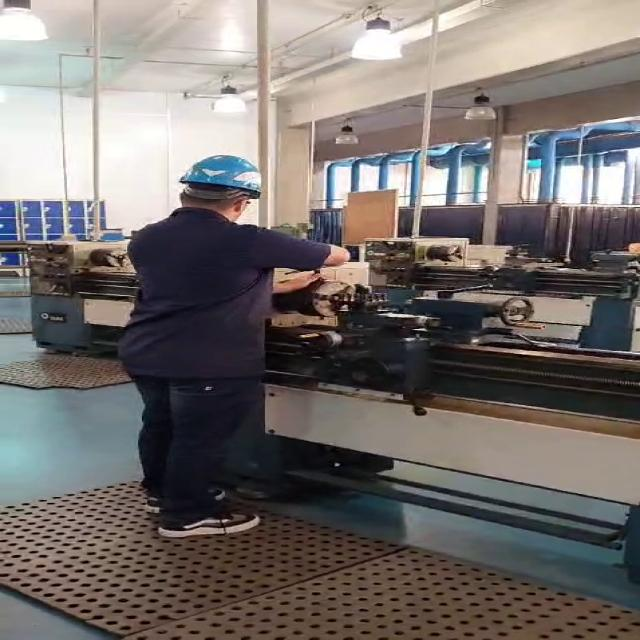oculos-epi: (235, 200, 251, 207)
